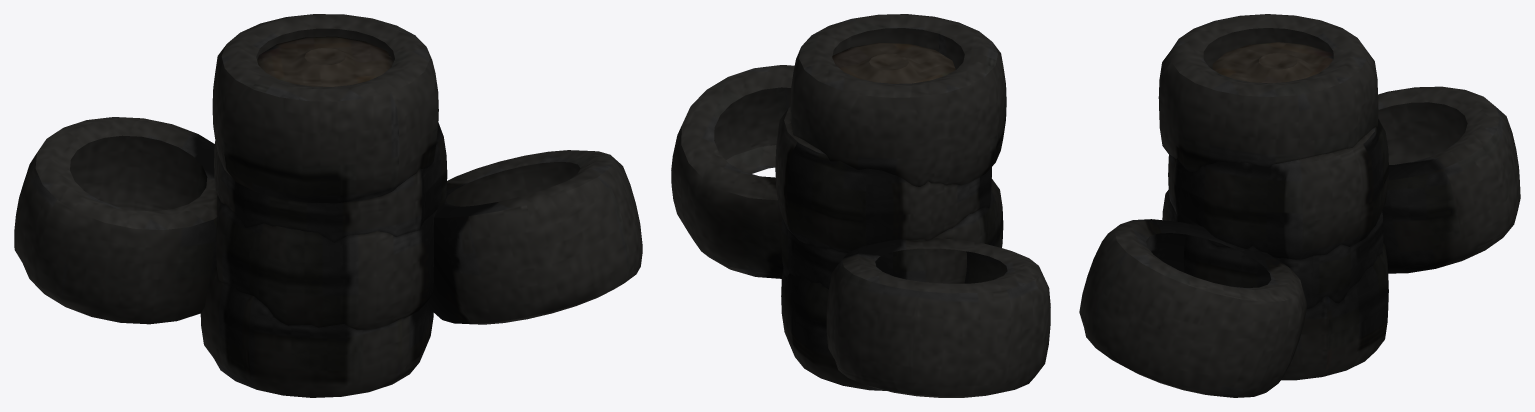
Rendered from pneus.glb.
3 renders of one model, left to right at view 1: azimuth 30°, elevation 25°; view 2: azimuth 150°, elevation 25°; view 3: azimuth 270°, elevation 25°, orthographic. The views are drawn at different scales.
Parts seen in each view (by area): view 1: pneus; view 2: pneus; view 3: pneus.
Part boxes in pixels (left/top/right/bottom): pneus: left=14, top=14, right=642, bottom=397; pneus: left=671, top=14, right=1050, bottom=397; pneus: left=1079, top=14, right=1520, bottom=397.
Bounding box in the file's own units: 2.15 × 1.34 × 1.82.
Materials: 1 (1 with a texture image).
